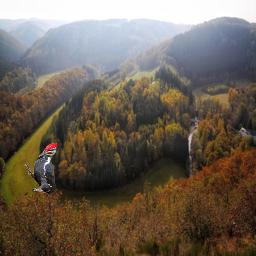Woodpecker: (24, 143, 57, 194)
